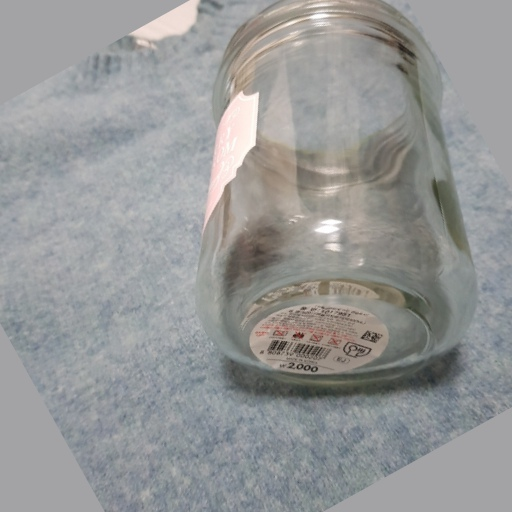Glass_5: (199, 2, 485, 378)
